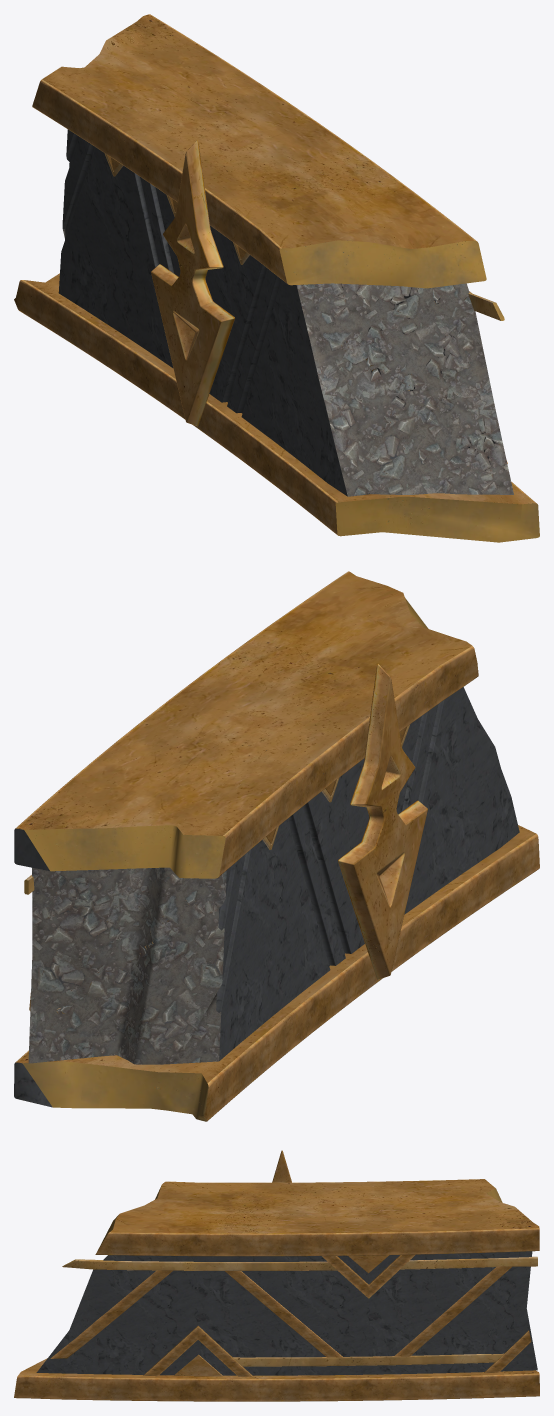
3 views of the same model, one above another, from view 1: azimuth 30°, elevation 25°; view 2: azimuth 150°, elevation 25°; view 3: azimuth 270°, elevation 25° (orthographic). The views are drawn at different scales.
Visible parts, largest first — view 1: SM_Kuldras_Arena_RingPiece_03_LOD0; view 2: SM_Kuldras_Arena_RingPiece_03_LOD0; view 3: SM_Kuldras_Arena_RingPiece_03_LOD0.
Boxes of the visible parts, box(x1,y1,x2,y2) form: SM_Kuldras_Arena_RingPiece_03_LOD0: box(14, 14, 539, 542); SM_Kuldras_Arena_RingPiece_03_LOD0: box(14, 571, 539, 1121); SM_Kuldras_Arena_RingPiece_03_LOD0: box(14, 1150, 539, 1401).
Size of the model in its own units: 8.3 by 13.52 by 32.34.
Materials: 4 (4 with a texture image).
